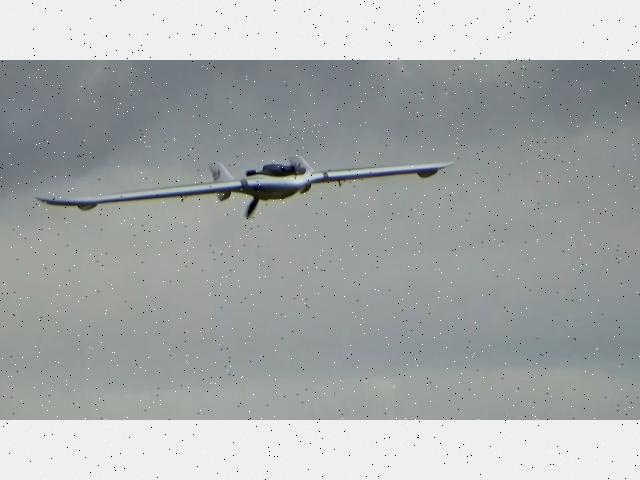Anti-Drone: (34, 152, 456, 212)
